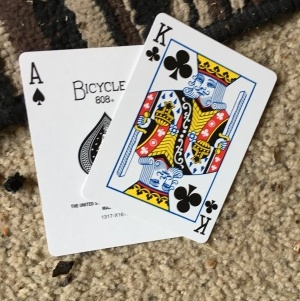card: (87, 10, 278, 243), (17, 44, 140, 257)
